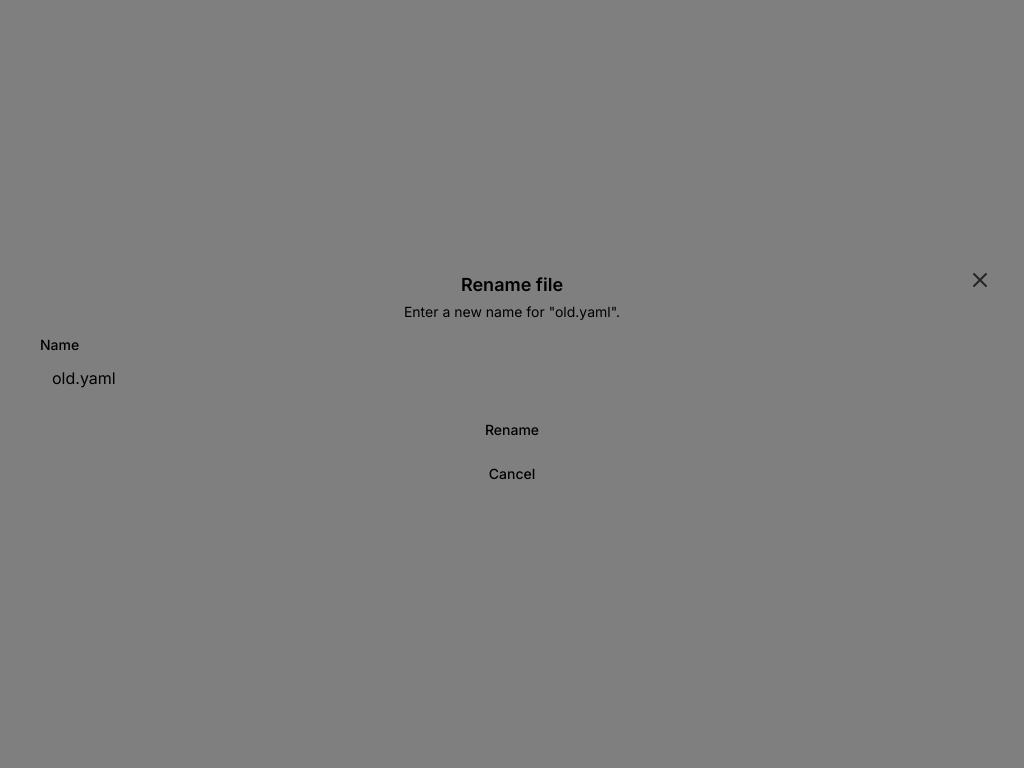
Test: RenameDialog › rejects names containing path separators
Replace the text in the field with "sub/name.yaml" at (512, 378), box 40,360 -> 984,396
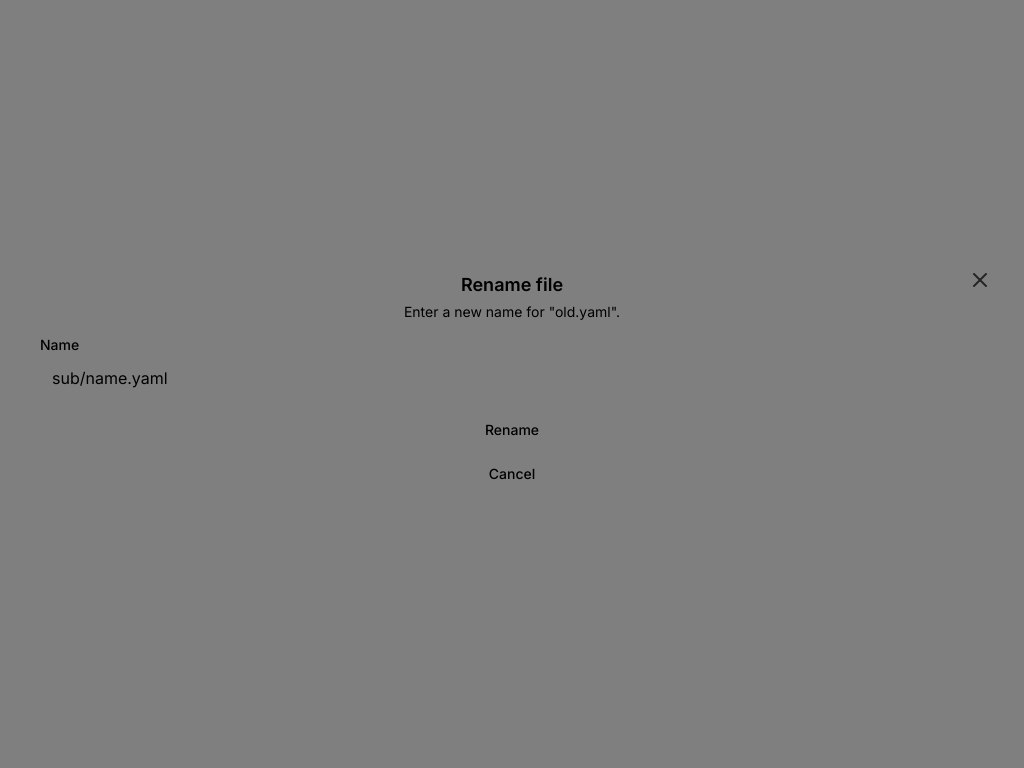
Click the button "Rename" at (512, 430), box 40,412 -> 984,448
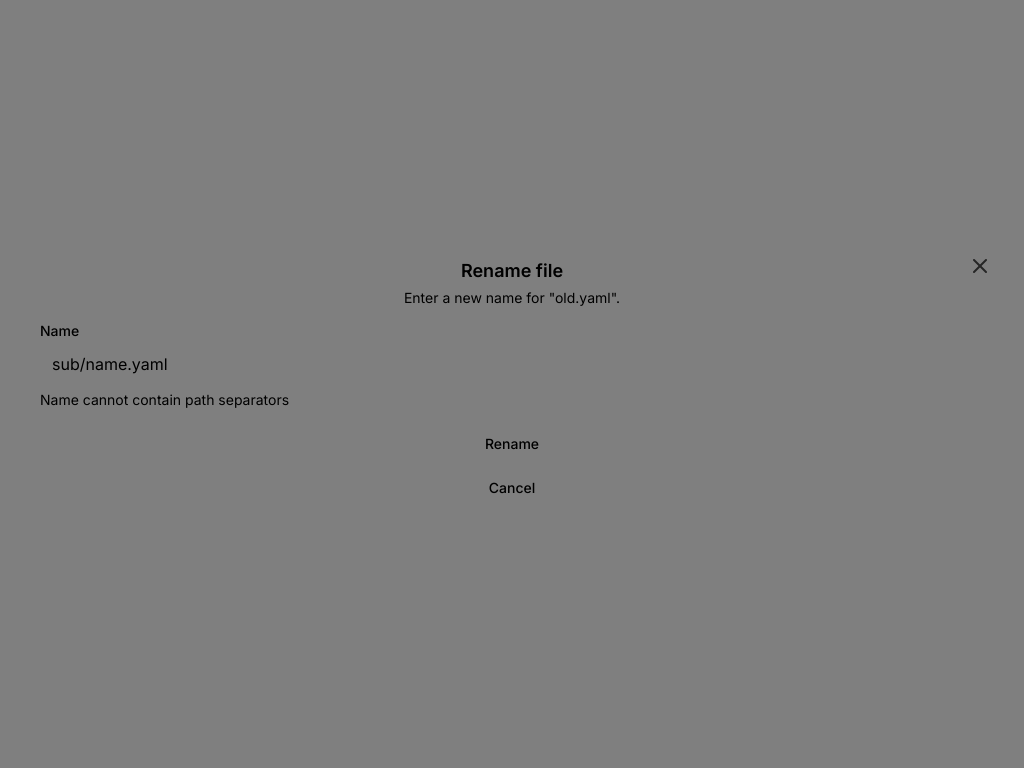
Now the text "Name cannot contain path separators" is shown, box 40,391 -> 289,408
